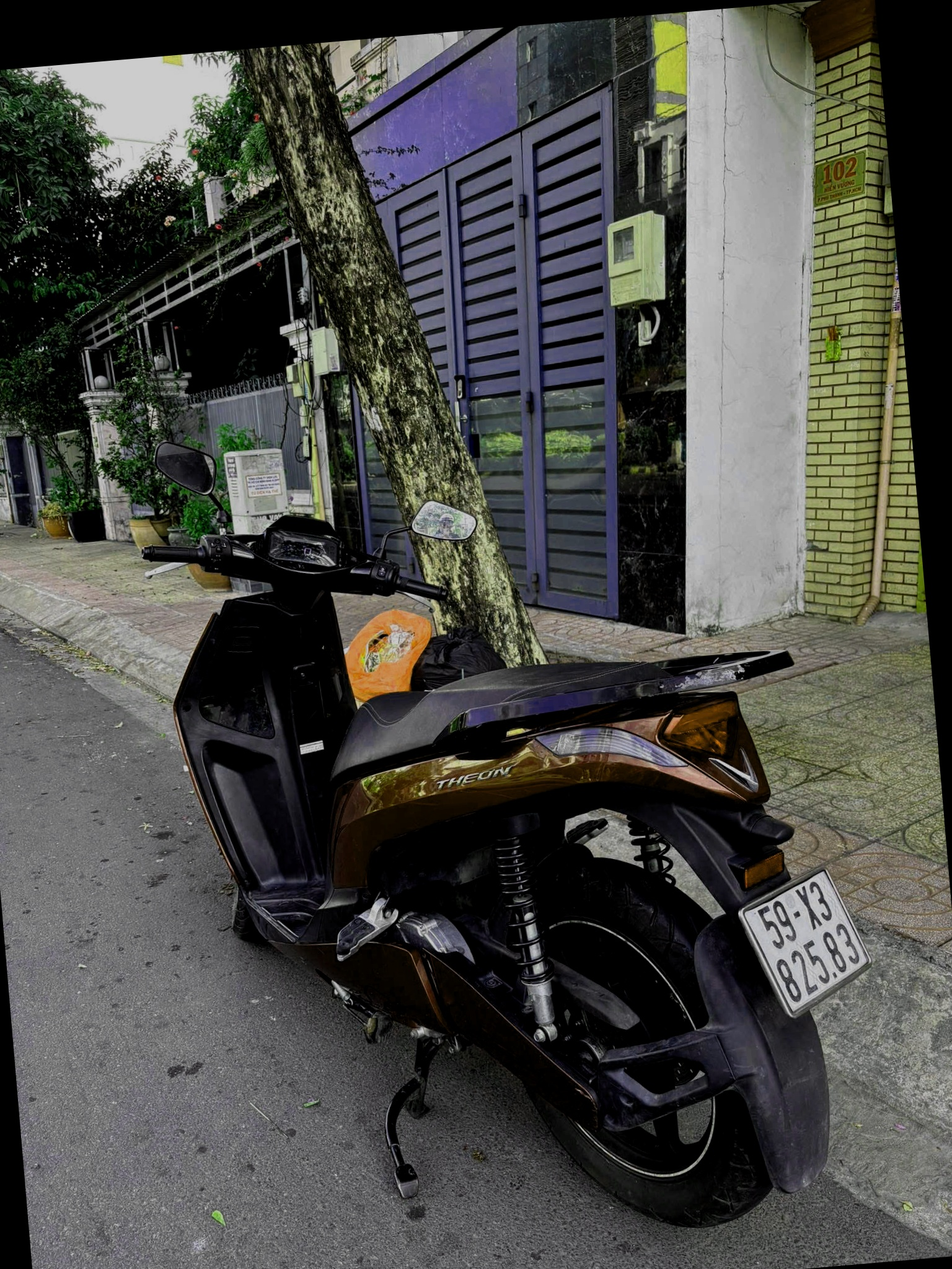Bien-so: (733, 885, 866, 1047)
